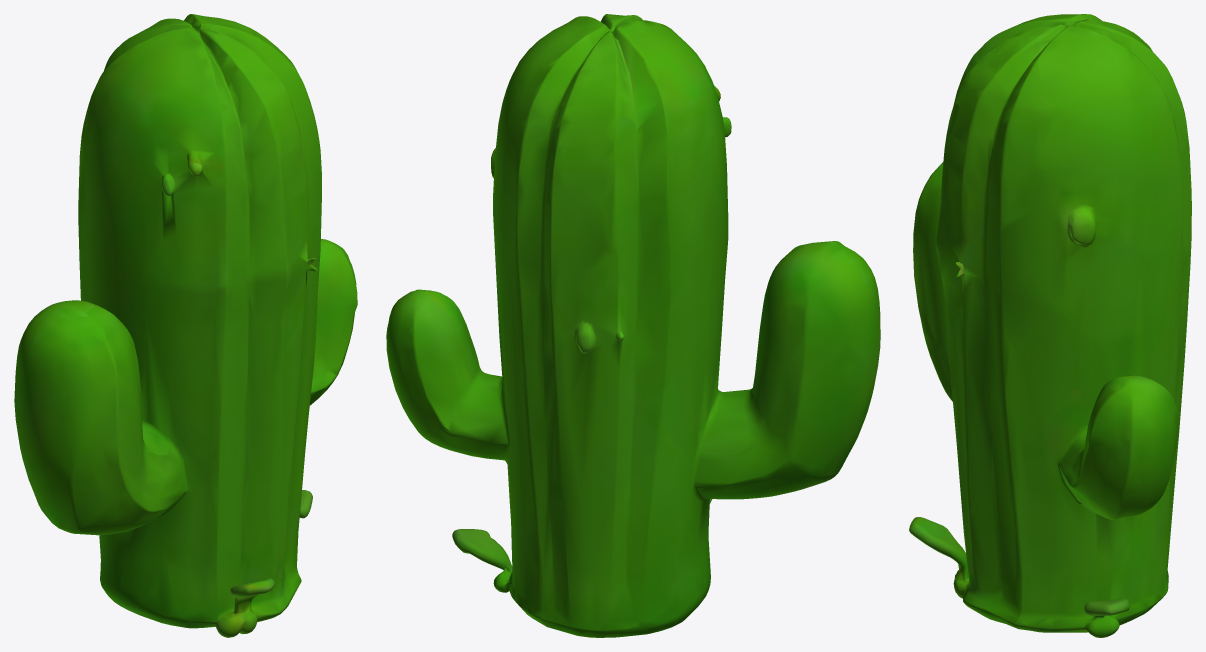
The model's file is tt_cactus.glb.
3 views of the same model, side by side, from view 1: azimuth 30°, elevation 25°; view 2: azimuth 150°, elevation 25°; view 3: azimuth 270°, elevation 25° (orthographic).
Visible parts, largest first — view 1: tree; view 2: tree; view 3: tree.
Part boxes in pixels (<box>): tree: <box>14,14,357,637</box>; tree: <box>386,14,880,637</box>; tree: <box>909,14,1191,637</box>.
Size of the model in its own units: 0.7364 by 1 by 0.4434.
1 material, 1 textured.
